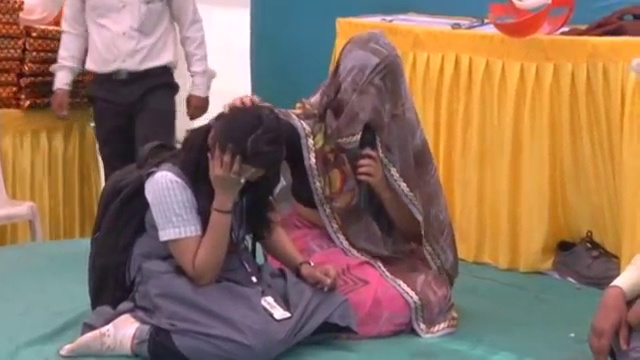helmet_off: (325, 25, 411, 144), (199, 105, 292, 201)
person: (58, 103, 351, 358), (264, 25, 463, 338), (51, 0, 210, 185), (589, 252, 640, 360)
